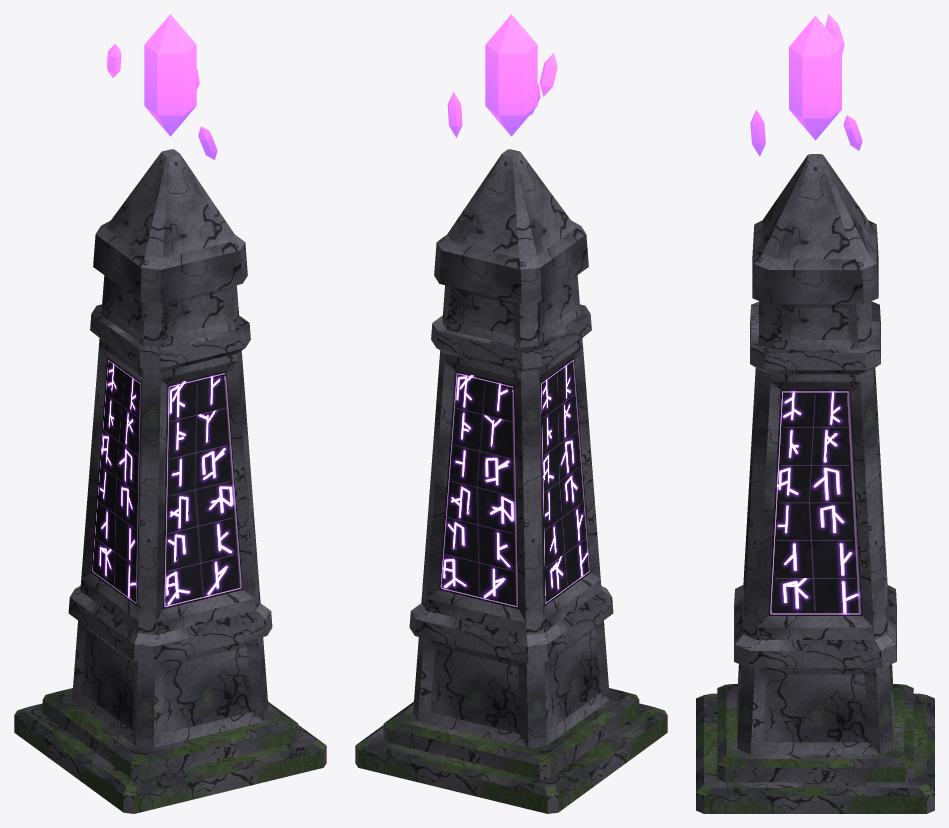
The model's file is SM_RuneObelisk.glb.
3 renders of one model, left to right at view 1: azimuth 30°, elevation 25°; view 2: azimuth 150°, elevation 25°; view 3: azimuth 270°, elevation 25°, orthographic.
Parts seen in each view (by area): view 1: SM_RuneObelisk; view 2: SM_RuneObelisk; view 3: SM_RuneObelisk.
Part boxes in pixels (x1,y1,x2,y2): SM_RuneObelisk: [14, 14, 326, 813]; SM_RuneObelisk: [355, 14, 667, 813]; SM_RuneObelisk: [696, 14, 934, 813].
Bounding box in the file's own units: 9 × 31.1 × 9.
4 materials, 4 textured.
